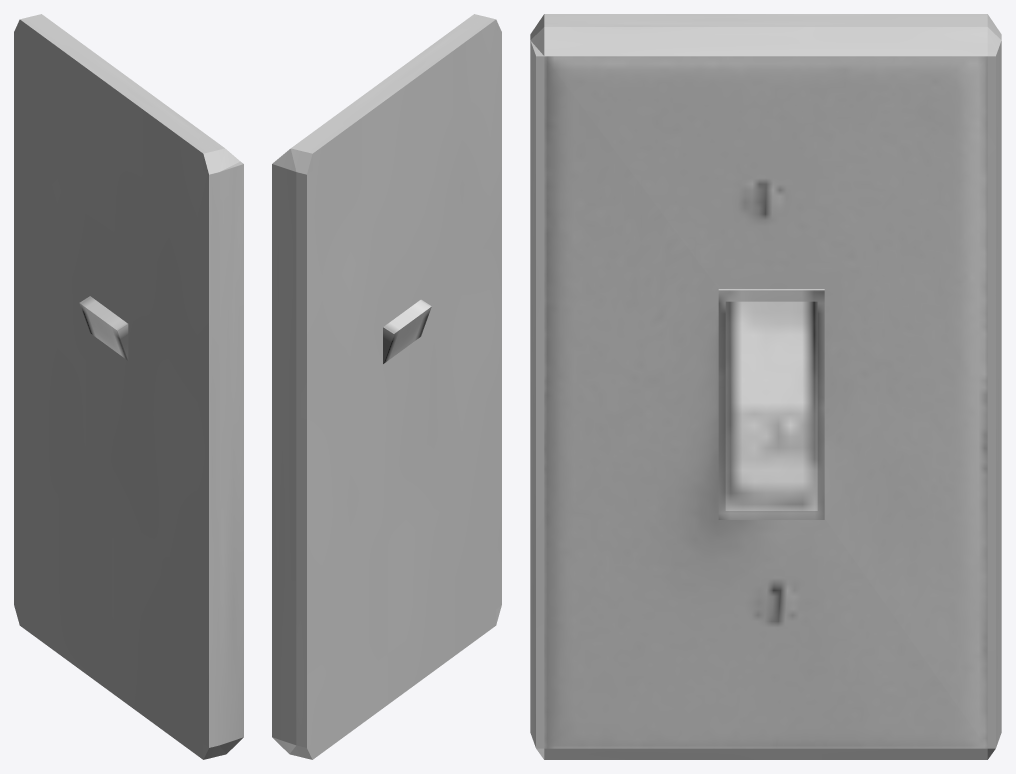
File: light_switch.fbx
3 views of the same model, side by side, from view 1: azimuth 30°, elevation 25°; view 2: azimuth 150°, elevation 25°; view 3: azimuth 270°, elevation 25° (orthographic). The views are drawn at different scales.
Parts seen in each view (by area): view 1: Light_switch.002, Light_switch.003; view 2: Light_switch.002, Light_switch.003; view 3: Light_switch.002, Light_switch.003.
Part boxes in pixels (bbox=[...]): Light_switch.002: bbox=[14, 14, 243, 759]; Light_switch.003: bbox=[79, 296, 128, 360]; Light_switch.002: bbox=[272, 14, 501, 759]; Light_switch.003: bbox=[383, 299, 431, 363]; Light_switch.002: bbox=[530, 14, 1001, 759]; Light_switch.003: bbox=[725, 301, 817, 510].
Bounding box in the file's own units: 1.92 × 13.6 × 7.93.
